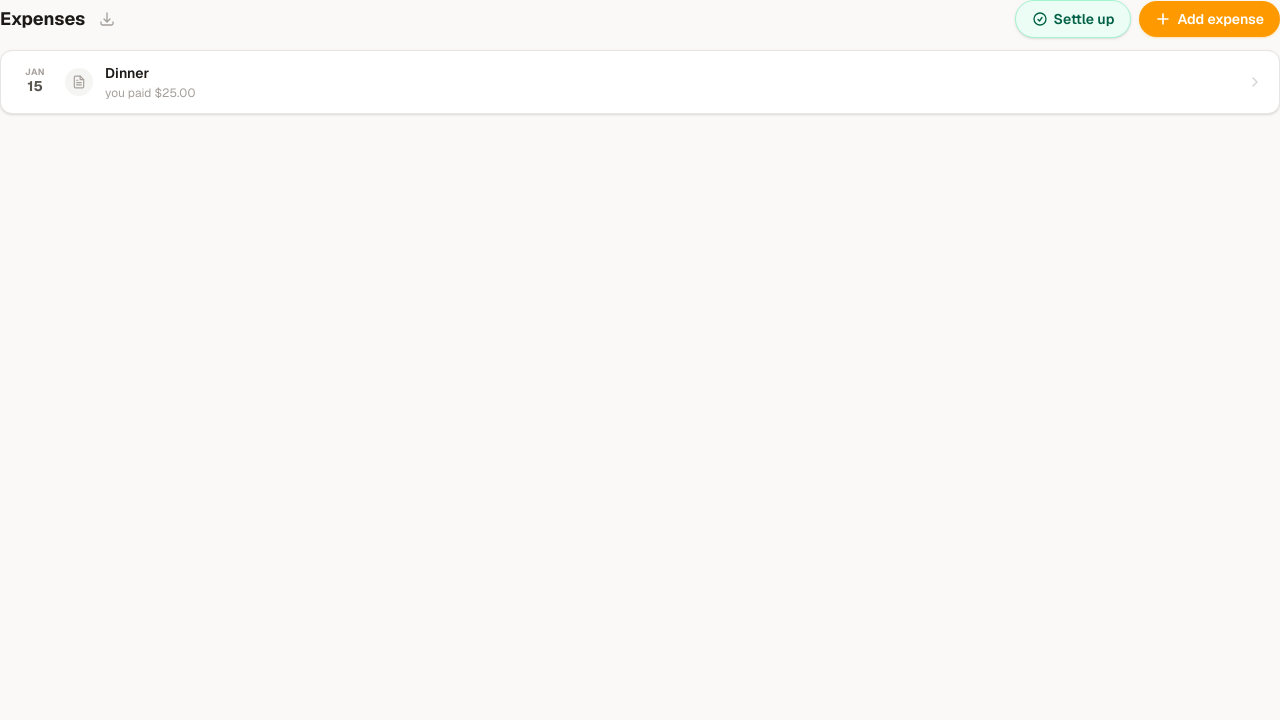
Test: ExpensesList — detail modal shows correct actions for creator vs non-creator › shows Edit and Delete buttons in the modal for the expense creator (canEdit=true, canDelete=true)
Click the button "JAN 15 Dinner you paid $25.00" at point(640, 82), box [0,50,1279,114]
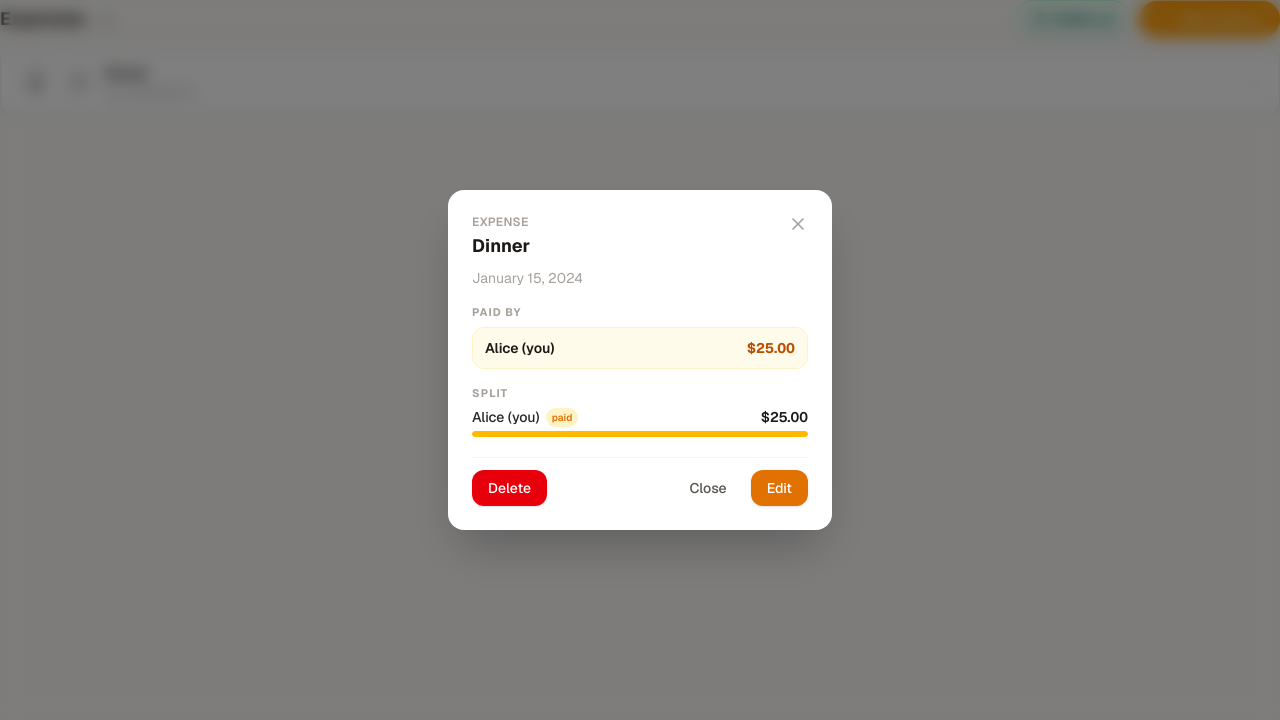
Result: the button with aria-label "edit expense" is shown at [751,470,808,506]
Result: the button with aria-label "delete expense" is shown at [472,470,547,506]
